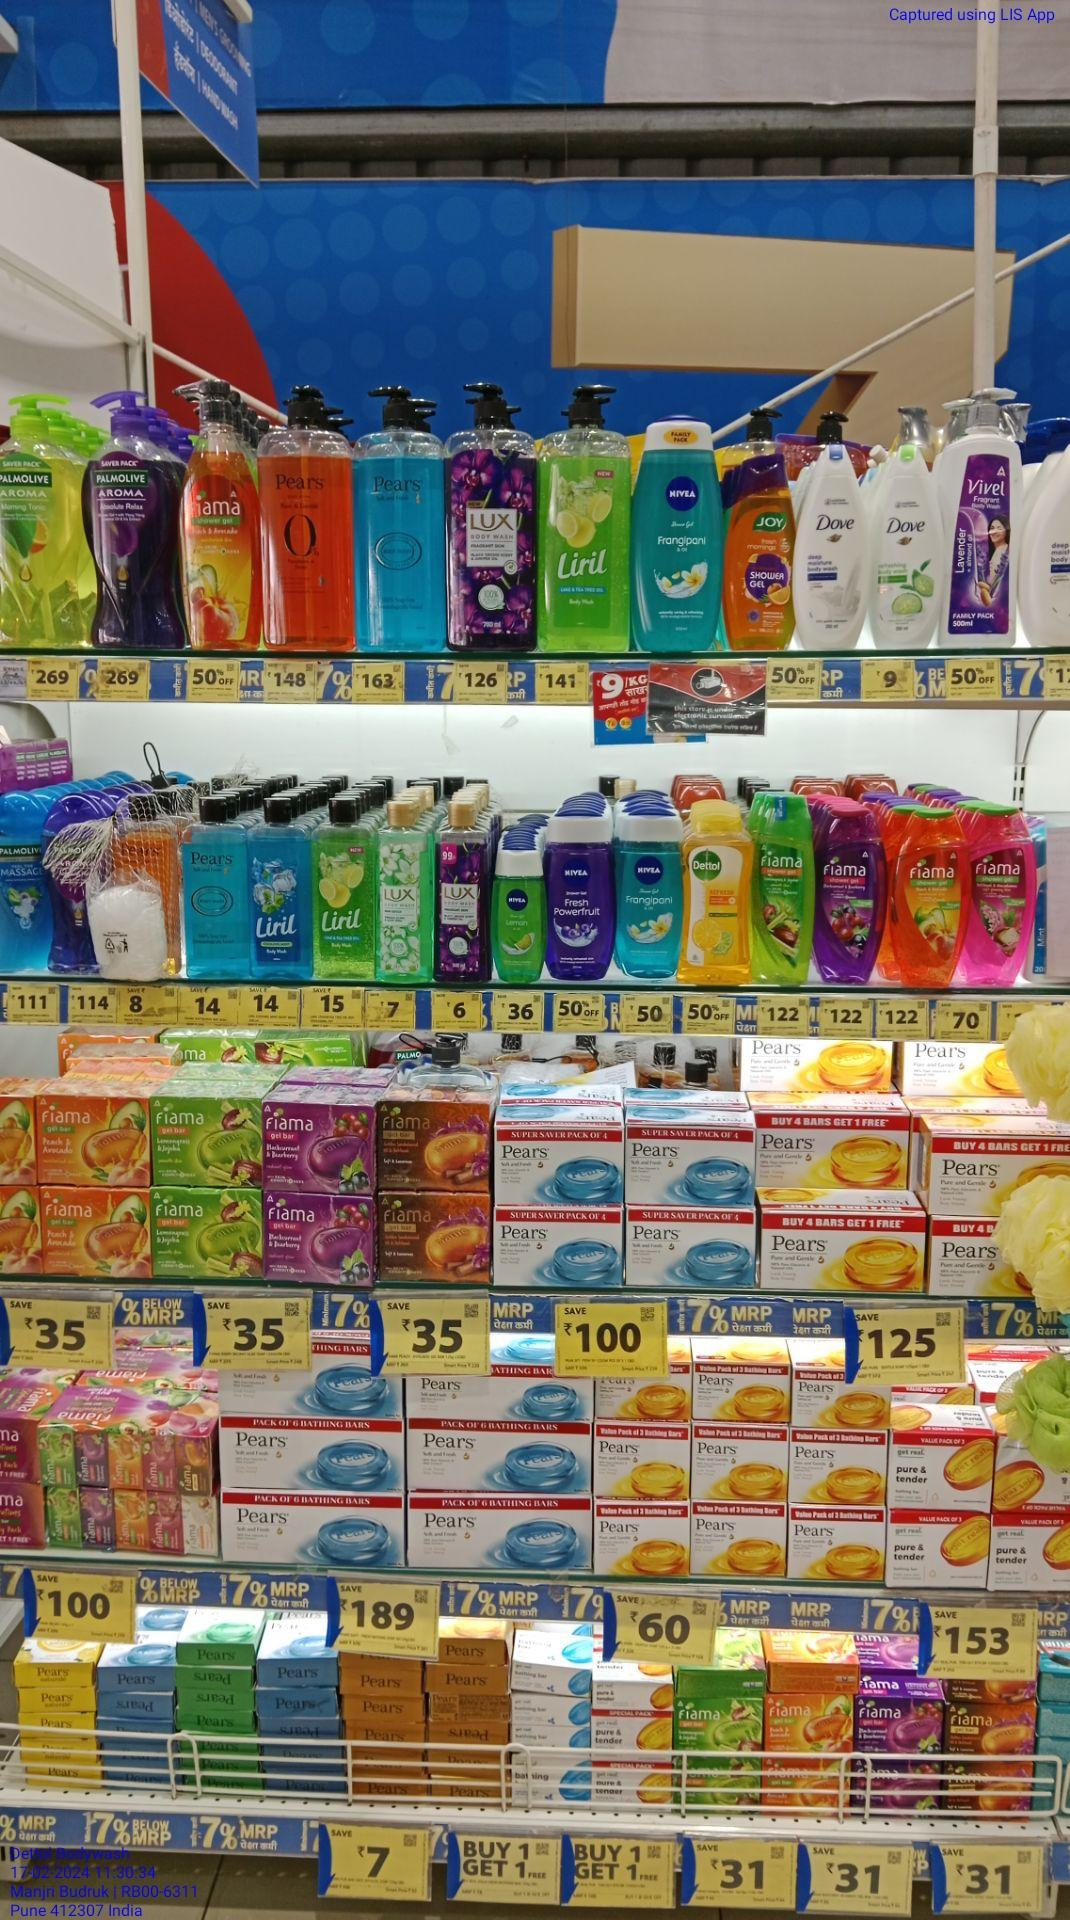Dettol_Bodywash_Refresh: (680, 800, 752, 990)
Dove_Deep_Moisture_Body_Wash_250ML: (795, 441, 867, 648)
Dove_Refreshing_Body_Wash_250ML: (874, 441, 946, 648)
Fiama_Shower_Gel_Lemongrass_and_Jojoba_250ML: (758, 796, 816, 984)
Fiama_Shower_Gel_Patchouli_and_Macadamia_250ML: (969, 805, 1033, 987)
Fiama_Shower_Gel_Peach_and_Avocado_250ML: (892, 808, 967, 986)
Joy_Shower_Gel_Mandarin_and_Lemongrass_250ML: (727, 456, 792, 655)
Liril_Cooling_Mint_Body_Wash_250ML: (256, 799, 311, 979)
Liril_Lime_and_Tea_Tree_Oil_Body_Wash_250ML: (315, 795, 376, 979)
Lux_Black_Orchid_Scent_and_Juniper_Oil_Body_Wash_245ML: (437, 800, 490, 983)
Lux_Body_Wash_Skin_Detox_Freesia_Scent_and_Alove_Vera_245ML: (378, 797, 434, 986)
Nivea_Shower_Gel_Frangipani_and_Oil_250ML: (627, 419, 721, 651), (615, 799, 679, 979)
Nivea_Shower_Gel_Fresh_Powerfruit_250ML: (542, 809, 610, 983)
Pears_Pure_Glycerin_and_Mint_Extracts_Body_Wash_250ML: (183, 793, 253, 979)
